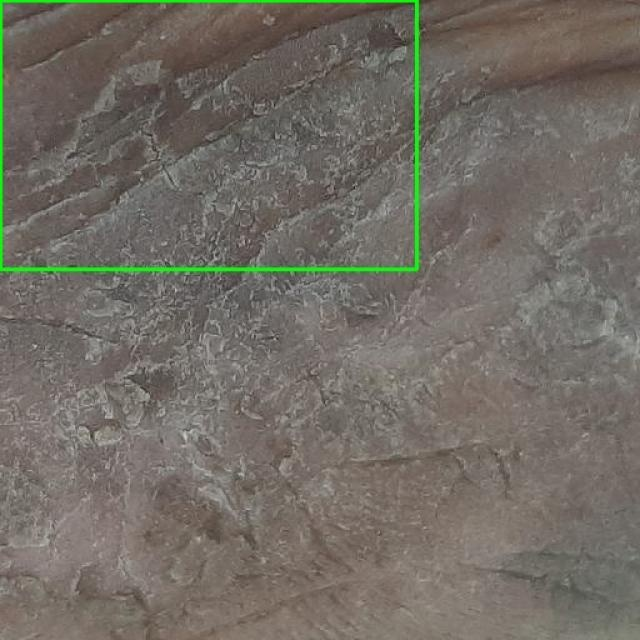Eczema: (0, 0, 416, 269)
